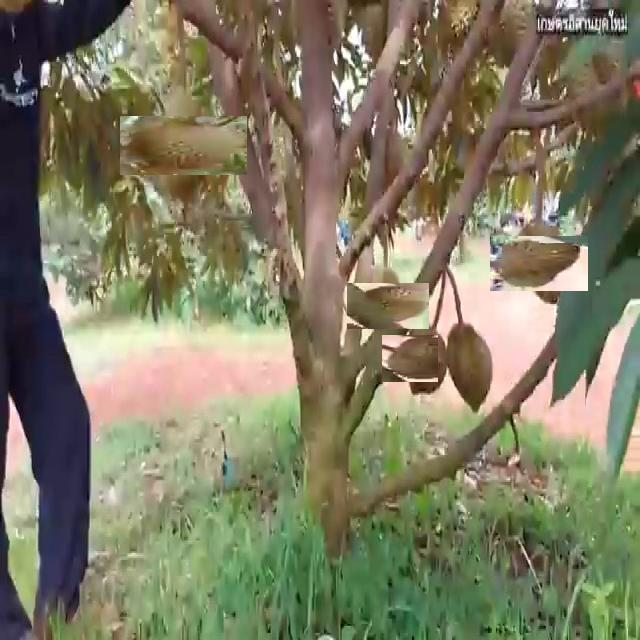durian: (137, 99, 230, 193), (438, 316, 499, 418), (501, 224, 577, 302), (392, 325, 458, 392), (356, 274, 420, 339)
